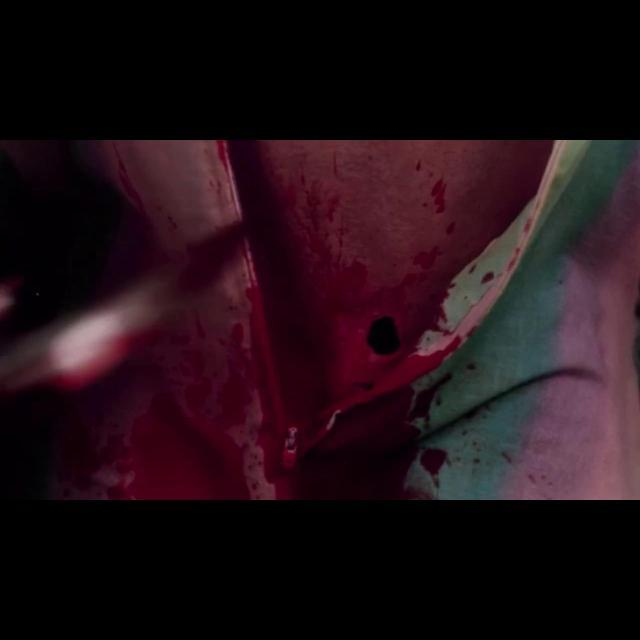blood: (0, 140, 588, 499)
